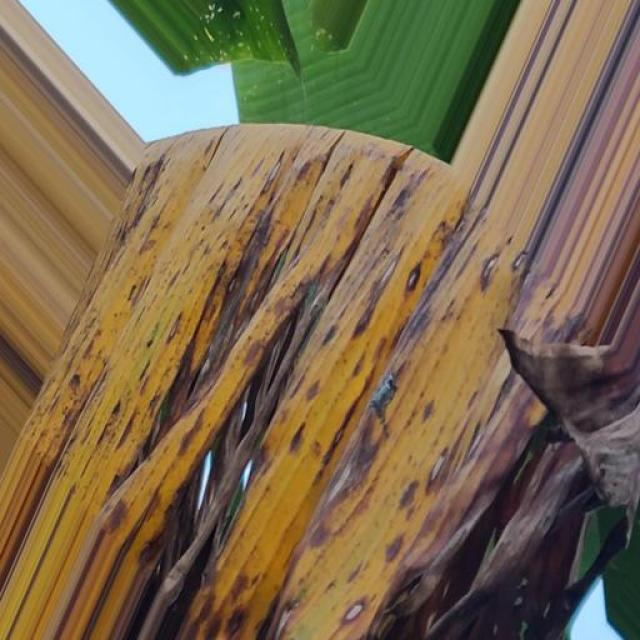Cordana: (4, 64, 640, 640)
